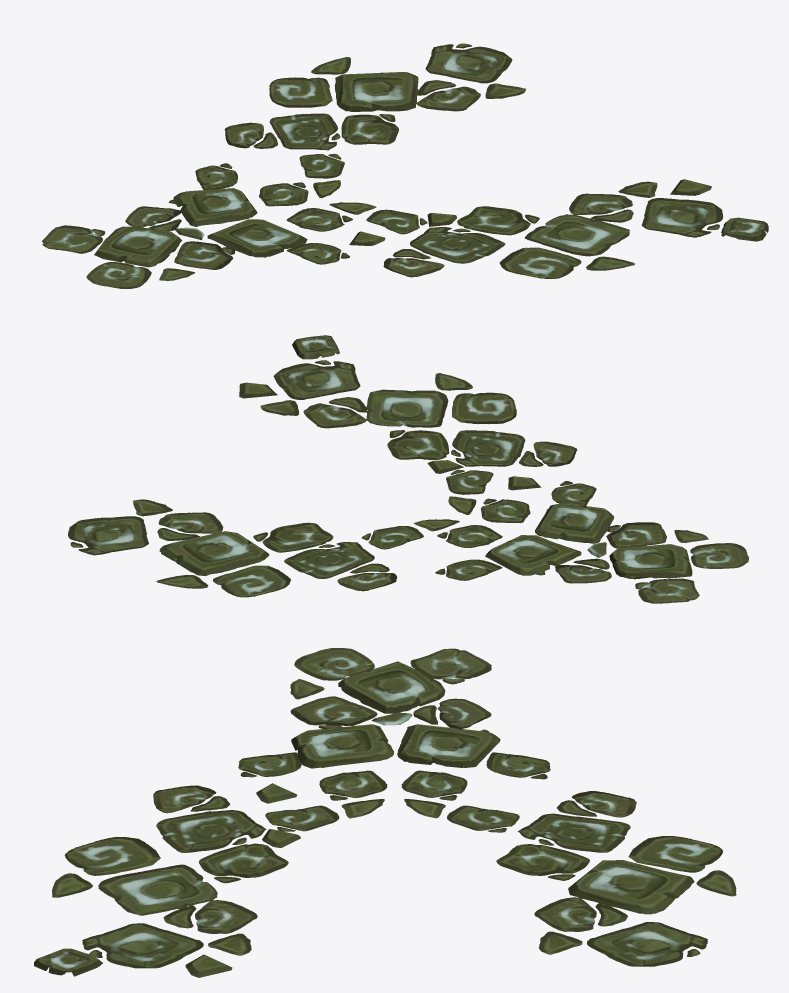
File: pavers_y_snow_01.fbx
3 views of the same model, one above another, from view 1: azimuth 30°, elevation 25°; view 2: azimuth 150°, elevation 25°; view 3: azimuth 270°, elevation 25° (orthographic). The views are drawn at different scales.
Visible parts, largest first — view 1: obj1.034; view 2: obj1.034; view 3: obj1.034.
Boxes of the visible parts, left/top/right/bottom form: obj1.034: left=42, top=43, right=768, bottom=288; obj1.034: left=68, top=335, right=748, bottom=603; obj1.034: left=34, top=648, right=736, bottom=977.
Bounding box in the file's own units: 15.49 × 0.1225 × 15.
